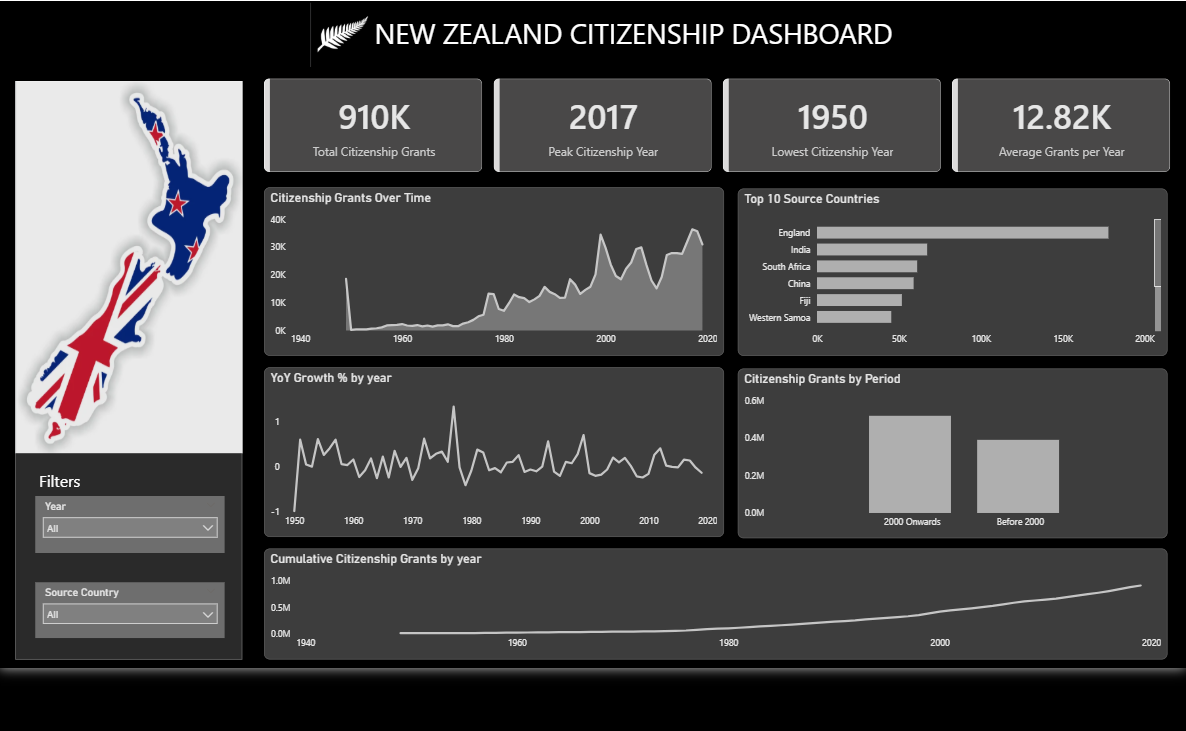

This screenshot's page, from the dashboard's own definition file:
{"tool":"powerbi","page":{"name":"Page 1","canvas":[1600,900],"ordinal":0},"visuals":[{"type":"textbox","box":[0,13.5,1600.3,74.1],"z":0},{"type":"image","box":[419.7,0,87.4,90.9],"z":1000},{"type":"cardVisual","title":"Total Citizenship Grants","fields":{"Data":["nz_analytics nz_citizenship.Total Citizenship Grants","nz_analytics nz_citizenship.Peak Citizenship Year","nz_analytics nz_citizenship.Lowest Citizenship Year","nz_analytics nz_citizenship.Average Grants per Year"]},"box":[340.3,87.6,1256.7,160],"z":2000},{"type":"lineChart","title":"Citizenship Grants Over Time","fields":{"Category":["DimYear.year"],"Y":["nz_analytics nz_citizenship.Total Citizenship Grants"]},"box":[357.1,251,619.9,227.4],"z":3000},{"type":"barChart","title":"Top 10 Source Countries","fields":{"Category":["nz_analytics nz_citizenship.country_of_birth"],"Y":["nz_analytics nz_citizenship.Total Citizenship Grants"]},"box":[995.6,252.7,579.5,225.7],"z":5000},{"type":"lineChart","fields":{"Category":["DimYear.year"],"Y":["nz_analytics nz_citizenship.YoY Growth %"]},"box":[357.1,493.6,619.9,229.1],"z":6000},{"type":"clusteredColumnChart","fields":{"Y":["Period.Citizenship Grants"],"Category":["Period.Period"]},"box":[995.6,495.3,579.5,229.1],"z":7000},{"type":"lineChart","fields":{"Category":["DimYear.year"],"Y":["nz_analytics nz_citizenship.Cumulative Citizenship Grants"]},"box":[357.1,737.8,1217.9,149.9],"z":8000},{"type":"shape","box":[22.7,108.4,306,779.9],"z":9000},{"type":"slicer","fields":{"Values":["DimYear.year"]},"box":[49,667.7,255.3,76.9],"z":10000},{"type":"slicer","fields":{"Values":["DimCountry.country_of_birth"]},"box":[49,783.1,255.3,75.2],"z":11000},{"type":"textbox","box":[49,626,92.7,42],"z":12000},{"type":"image","box":[22.7,108.4,306,501.9],"z":13000}]}

Visuals, with their boxes in screenshot pixels (x1, y1, x2, y2):
textbox: BBox(0, 22, 1167, 76)
image: BBox(304, 12, 368, 79)
"Total Citizenship Grants" cardVisual: BBox(246, 76, 1164, 193)
"Citizenship Grants Over Time" lineChart: BBox(258, 196, 711, 362)
"Top 10 Source Countries" barChart: BBox(725, 197, 1148, 362)
lineChart - DimYear.year x nz_analytics nz_citizenship.YoY Growth %: BBox(258, 373, 711, 541)
clusteredColumnChart - Period.Citizenship Grants x Period.Period: BBox(725, 374, 1148, 542)
lineChart - DimYear.year x nz_analytics nz_citizenship.Cumulative Citizenship Grants: BBox(258, 552, 1148, 661)
shape: BBox(14, 92, 237, 662)
slicer - DimYear.year: BBox(33, 500, 219, 557)
slicer - DimCountry.country_of_birth: BBox(33, 585, 219, 640)
textbox: BBox(33, 470, 100, 501)
image: BBox(14, 92, 237, 458)
